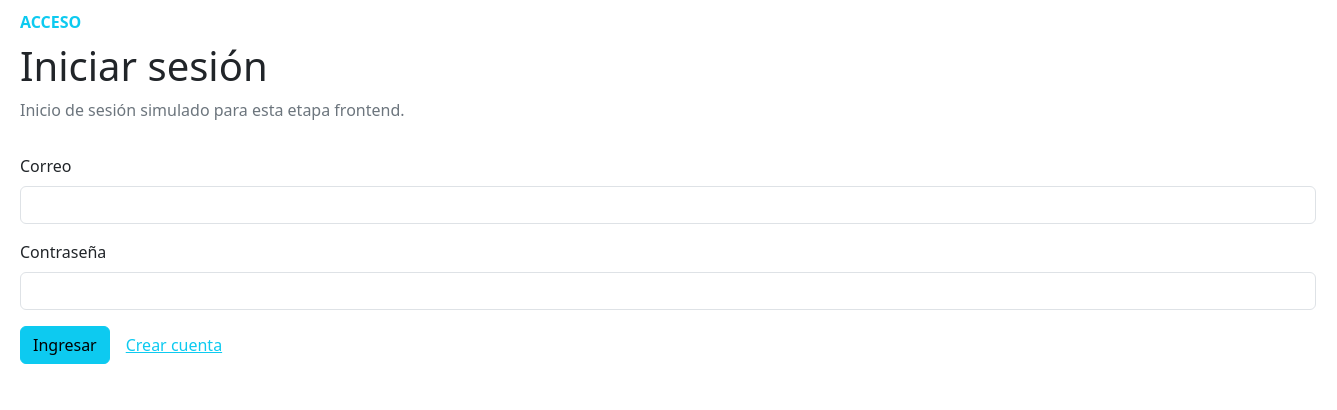
inicio de sesión › rechaza una contraseña demasiado corta
Type "cliente@correo.cl" into the field labelled "Correo".
click(668, 205); type("cliente@correo.cl")  # box [20,186,1316,224]
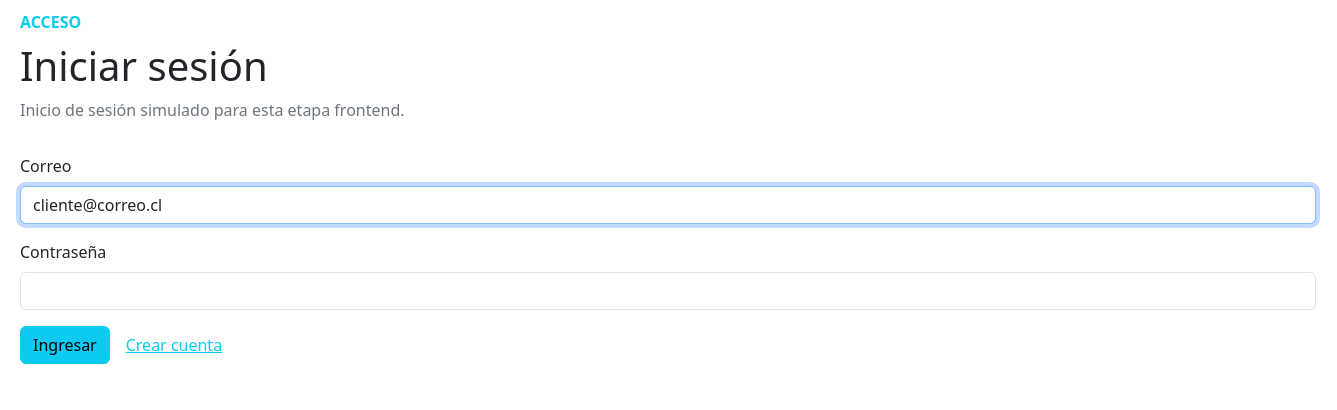
Type "123" into the password field labelled "Contraseña".
click(668, 291); type("123")  # box [20,272,1316,310]
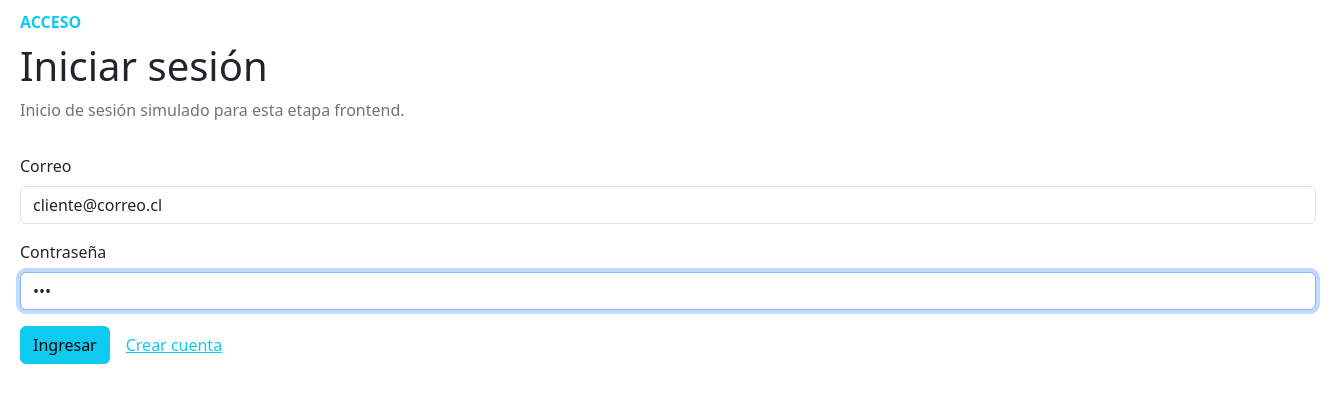
Click the button "Ingresar".
click(65, 345)  # box [20,326,110,364]
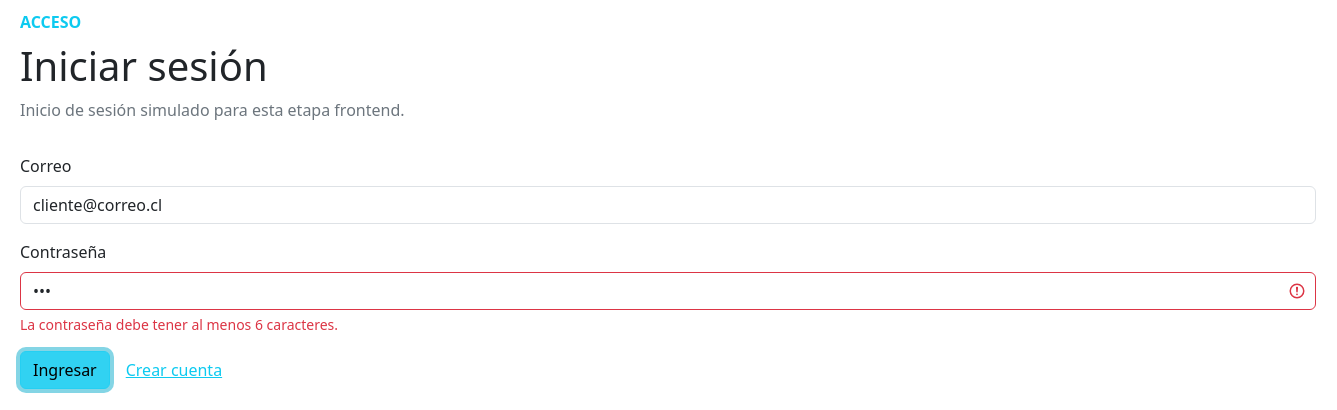
Result: the text "La contraseña debe tener al menos 6 caracteres." is shown at [20,315,338,334]
